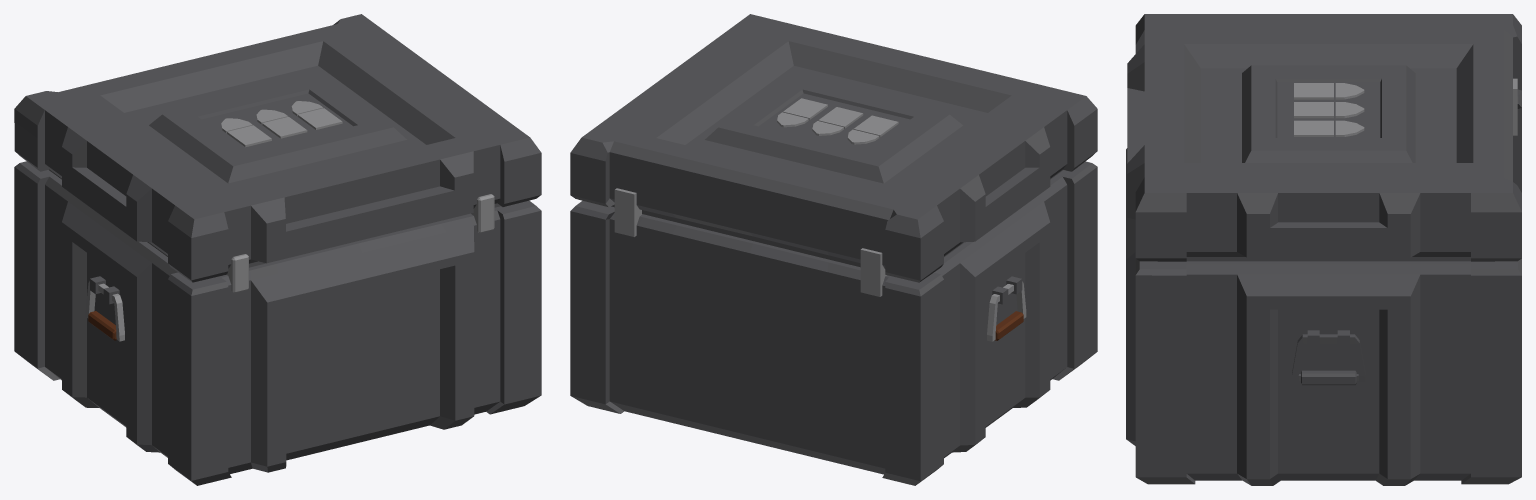
File: crate-ammo.obj
3 views of the same model, side by side, from view 1: azimuth 30°, elevation 25°; view 2: azimuth 150°, elevation 25°; view 3: azimuth 270°, elevation 25° (orthographic). The views are drawn at different scales.
Parts seen in each view (by area): view 1: crate-ammo.obj; view 2: crate-ammo.obj; view 3: crate-ammo.obj.
Boxes of the visible parts, left/top/right/bottom form: crate-ammo.obj: left=14, top=14, right=541, bottom=485; crate-ammo.obj: left=570, top=14, right=1097, bottom=485; crate-ammo.obj: left=1126, top=14, right=1521, bottom=485.
Size of the model in its own units: 0.7481 by 0.5376 by 0.6575.
